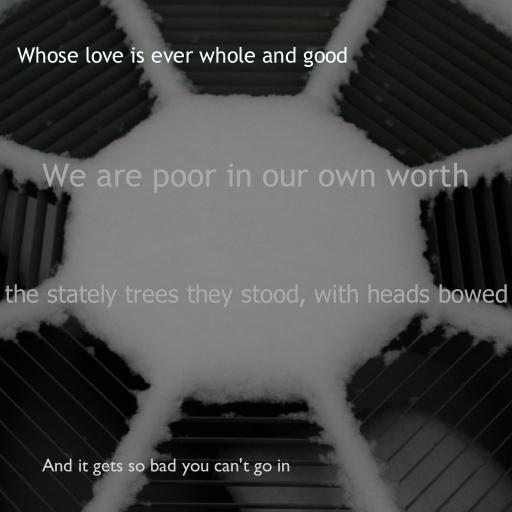Gill Sans: (42, 458, 290, 476)
Tahoma: (4, 284, 508, 308)
Trebuchet MS: (41, 162, 469, 194), (16, 46, 348, 68)
